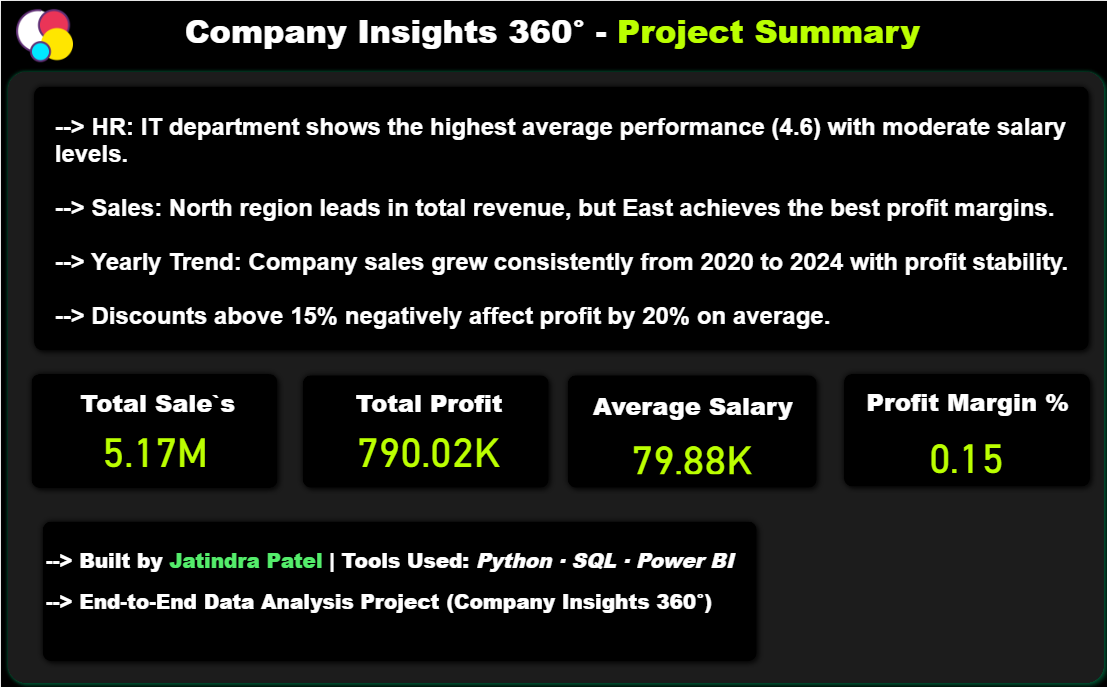

This screenshot's page, from the dashboard's own definition file:
{"tool":"powerbi","page":{"name":"Page 4","canvas":[1480,920],"ordinal":3},"visuals":[{"type":"shape","box":[0,85.7,1480,834],"z":0},{"type":"shape","box":[392.9,490,346,168],"z":1000},{"type":"shape","box":[31.4,488.6,346,170],"z":2000},{"type":"textbox","box":[417.1,508.6,308,66],"z":3000},{"type":"shape","box":[1114.3,488.6,346,168],"z":4000},{"type":"shape","box":[47.1,684.3,970,204.3],"z":5000},{"type":"shape","box":[35.7,104.3,1424.3,370],"z":6000},{"type":"textbox","box":[0,4,1470,82],"z":7000},{"type":"shape","box":[747.1,490,350,168],"z":8000},{"type":"textbox","box":[67.1,144.3,1390,315.7],"z":9000},{"type":"card","fields":{"Values":["Sum(sales.Sales)"]},"box":[97.1,558.6,216,74],"z":10000},{"type":"textbox","box":[54.3,721.4,952.9,161.4],"z":11000},{"type":"card","fields":{"Values":["Avg(employees.Salary)"]},"box":[795.7,574.3,252.7,61.3],"z":12000},{"type":"card","fields":{"Values":["avg_salary_perf.Profit Margin %"]},"box":[1208.6,568.6,158.6,71.4],"z":13000},{"type":"card","fields":{"Values":["Sum(sales.Profit)"]},"box":[461.4,554.3,216.3,82.1],"z":14000},{"type":"textbox","box":[768.6,511.4,308.2,82.3],"z":15000},{"type":"textbox","box":[1134.3,507.1,308,66],"z":16000},{"type":"textbox","box":[54.3,508.6,308,72],"z":17000},{"type":"image","box":[0,2.9,116,86],"z":18000}]}

Visuals, with their boxes in screenshot pixels (x1, y1, x2, y2), scaled from the page's 1480x920 canvas onto the 1107x687 screenshot:
shape: box=[0, 64, 1106, 686]
shape: box=[294, 366, 553, 491]
shape: box=[23, 365, 282, 492]
textbox: box=[312, 380, 542, 429]
shape: box=[833, 365, 1092, 490]
shape: box=[35, 511, 761, 664]
shape: box=[27, 78, 1092, 354]
textbox: box=[0, 3, 1100, 64]
shape: box=[559, 366, 821, 491]
textbox: box=[50, 108, 1090, 344]
card - Sum(sales.Sales): box=[73, 417, 234, 472]
textbox: box=[41, 539, 753, 659]
card - Avg(employees.Salary): box=[595, 429, 784, 475]
card - avg_salary_perf.Profit Margin %: box=[904, 425, 1023, 478]
card - Sum(sales.Profit): box=[345, 414, 507, 475]
textbox: box=[575, 382, 805, 443]
textbox: box=[848, 379, 1079, 428]
textbox: box=[41, 380, 271, 434]
image: box=[0, 2, 87, 66]
